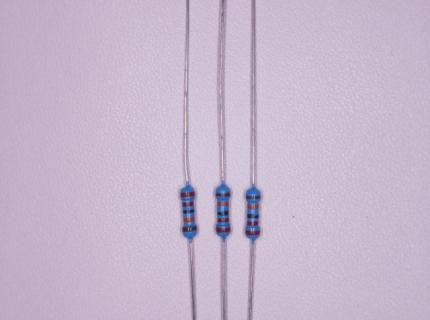Black band: (217, 210, 228, 216), (247, 214, 259, 219), (183, 209, 194, 214)
Brown band: (182, 226, 197, 232), (216, 192, 230, 197), (246, 195, 261, 199)
Orange band: (183, 216, 195, 222), (217, 201, 229, 206), (247, 204, 259, 209)
Red band: (245, 230, 260, 236), (216, 227, 230, 233), (180, 192, 195, 197), (182, 201, 194, 207), (247, 221, 258, 226), (217, 218, 229, 222)
